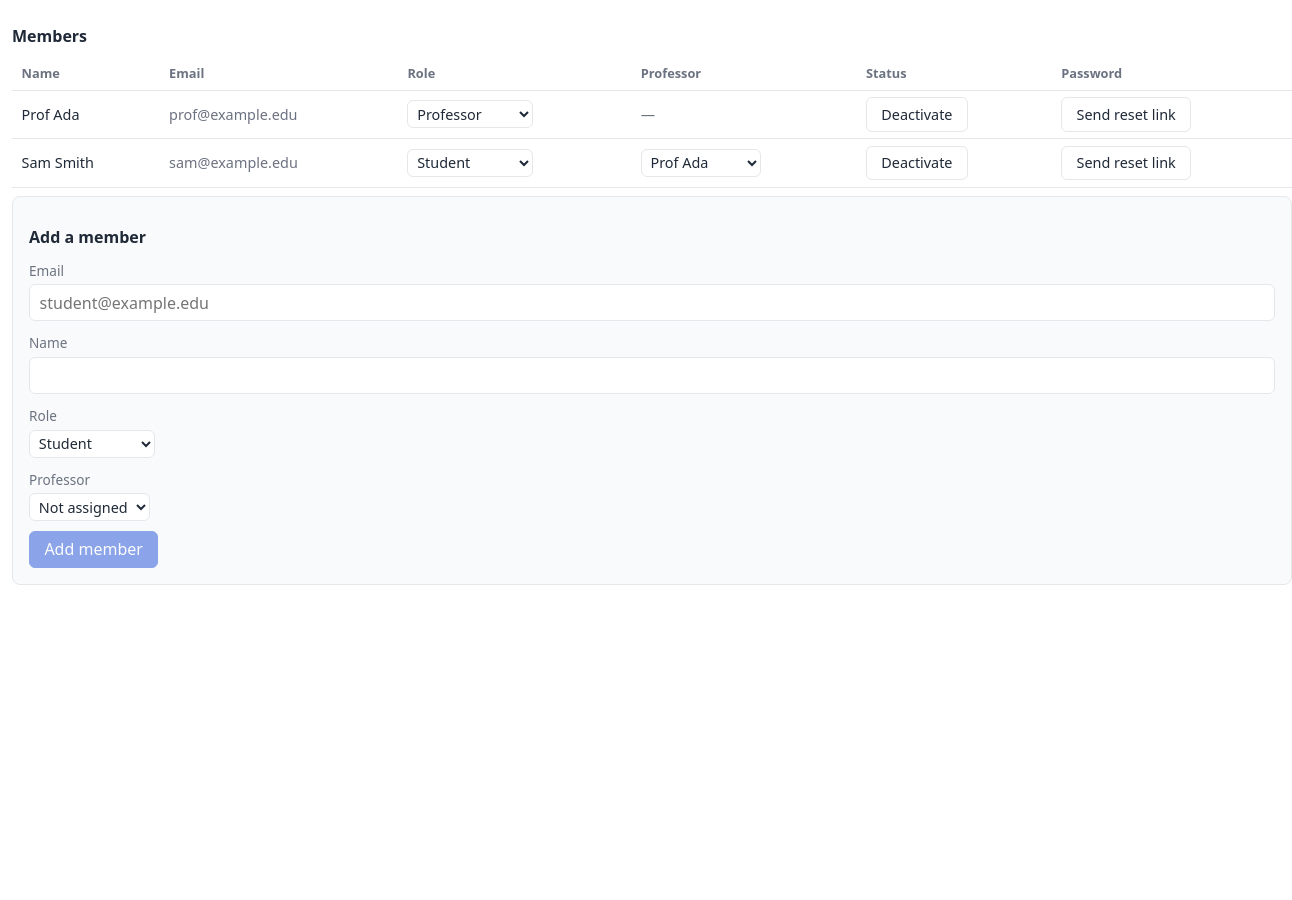
Test case: /org/:id — the members table › shows the invite link, once, when mail could not be sent
Expected: the text "prof@example.edu" is shown, [160,90,398,139]
Type "new@example.edu" into the field labelled "Email" at (652, 303), box [29,284,1275,322]
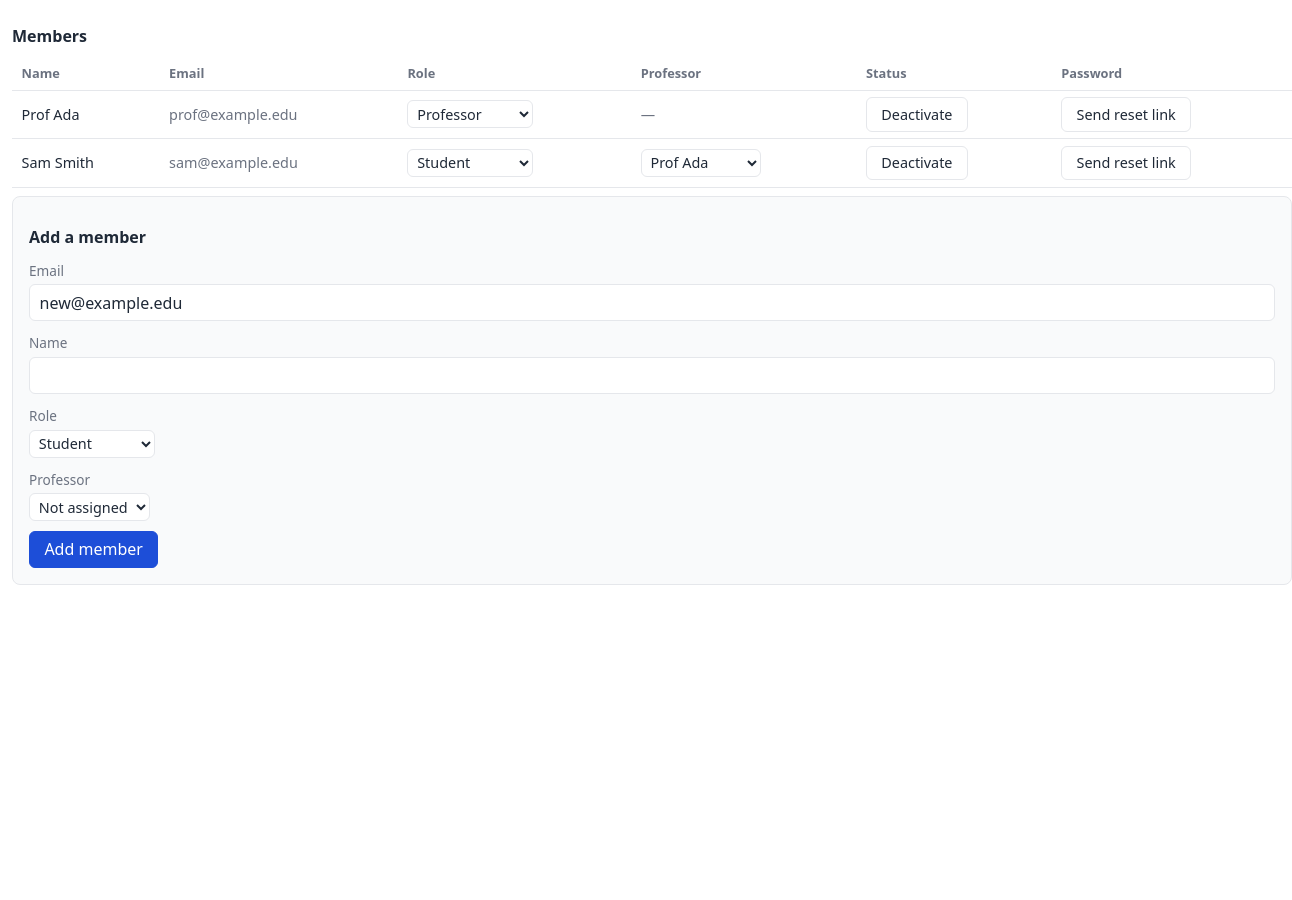
Click the button "Add member" at (94, 549), box [29,531,158,568]
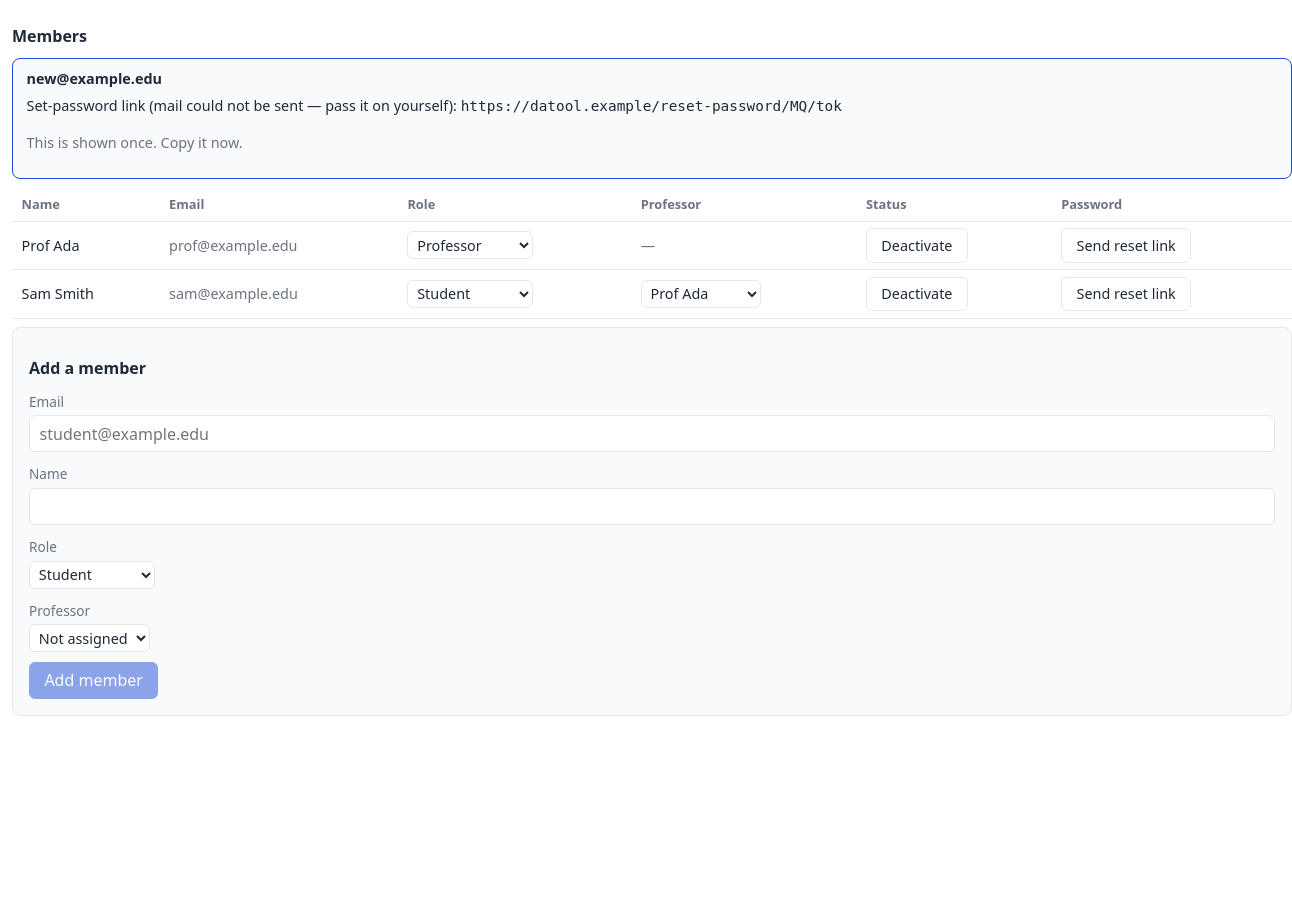
Result: the text "https://datool.example/reset-password/MQ/tok" is shown at [461,98,842,114]
Result: the text "This is shown once. Copy it now." is shown at [27,133,243,152]
